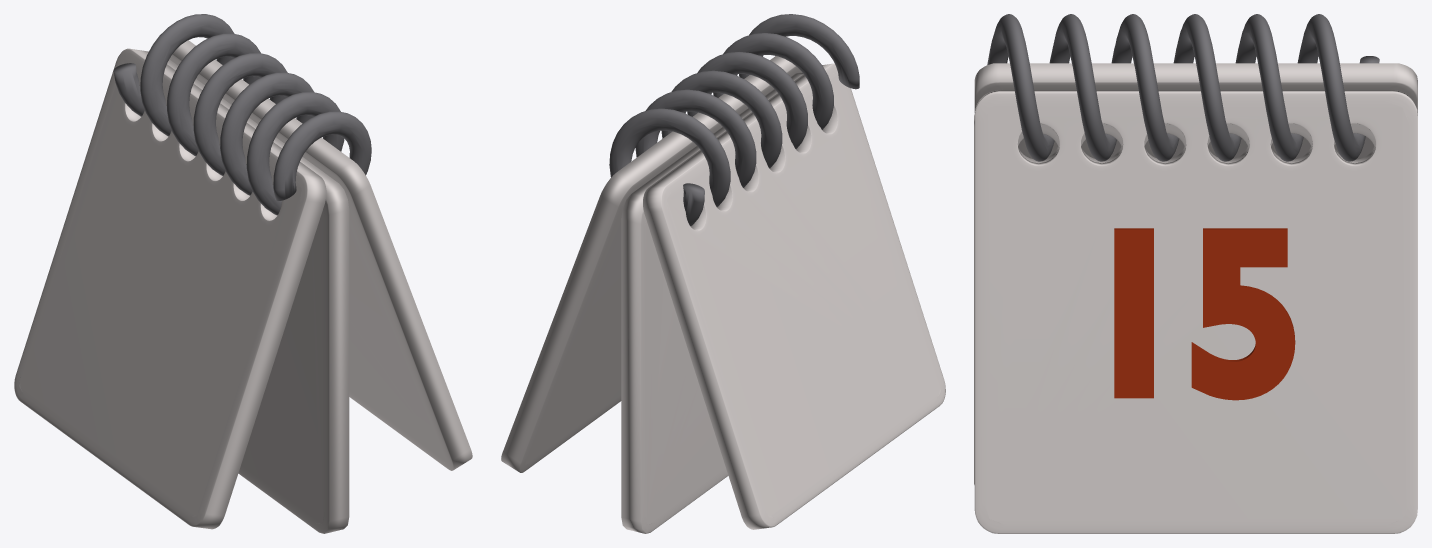
File: calendar.glb
The picture shows the model from 3 angles, left to right: view 1: azimuth 30°, elevation 25°; view 2: azimuth 150°, elevation 25°; view 3: azimuth 270°, elevation 25°; orthographic projection. The views are drawn at different scales.
Parts seen in each view (by area): view 1: page, page.001, anneaux; view 2: page, page.001, anneaux; view 3: page, anneaux, Text, page.001.
Part boxes in pixels (<box>): page: <box>14,40,472,529</box>; page.001: <box>167,59,349,533</box>; anneaux: <box>113,14,371,215</box>; page: <box>501,56,945,529</box>; page.001: <box>621,72,803,533</box>; anneaux: <box>609,14,859,226</box>; page: <box>974,63,1417,533</box>; anneaux: <box>987,14,1379,161</box>; Text: <box>1114,228,1295,400</box>; page.001: <box>974,115,1375,484</box>.
Bounding box in the file's own units: 1.68 × 2.39 × 2.
